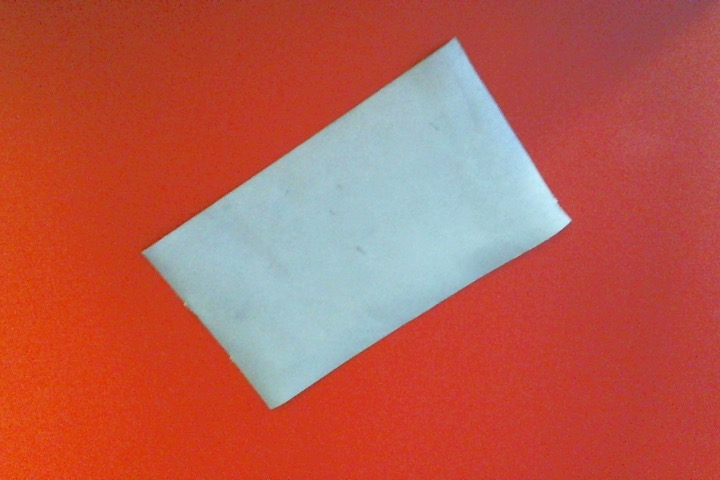Tape: (139, 37, 573, 410)
